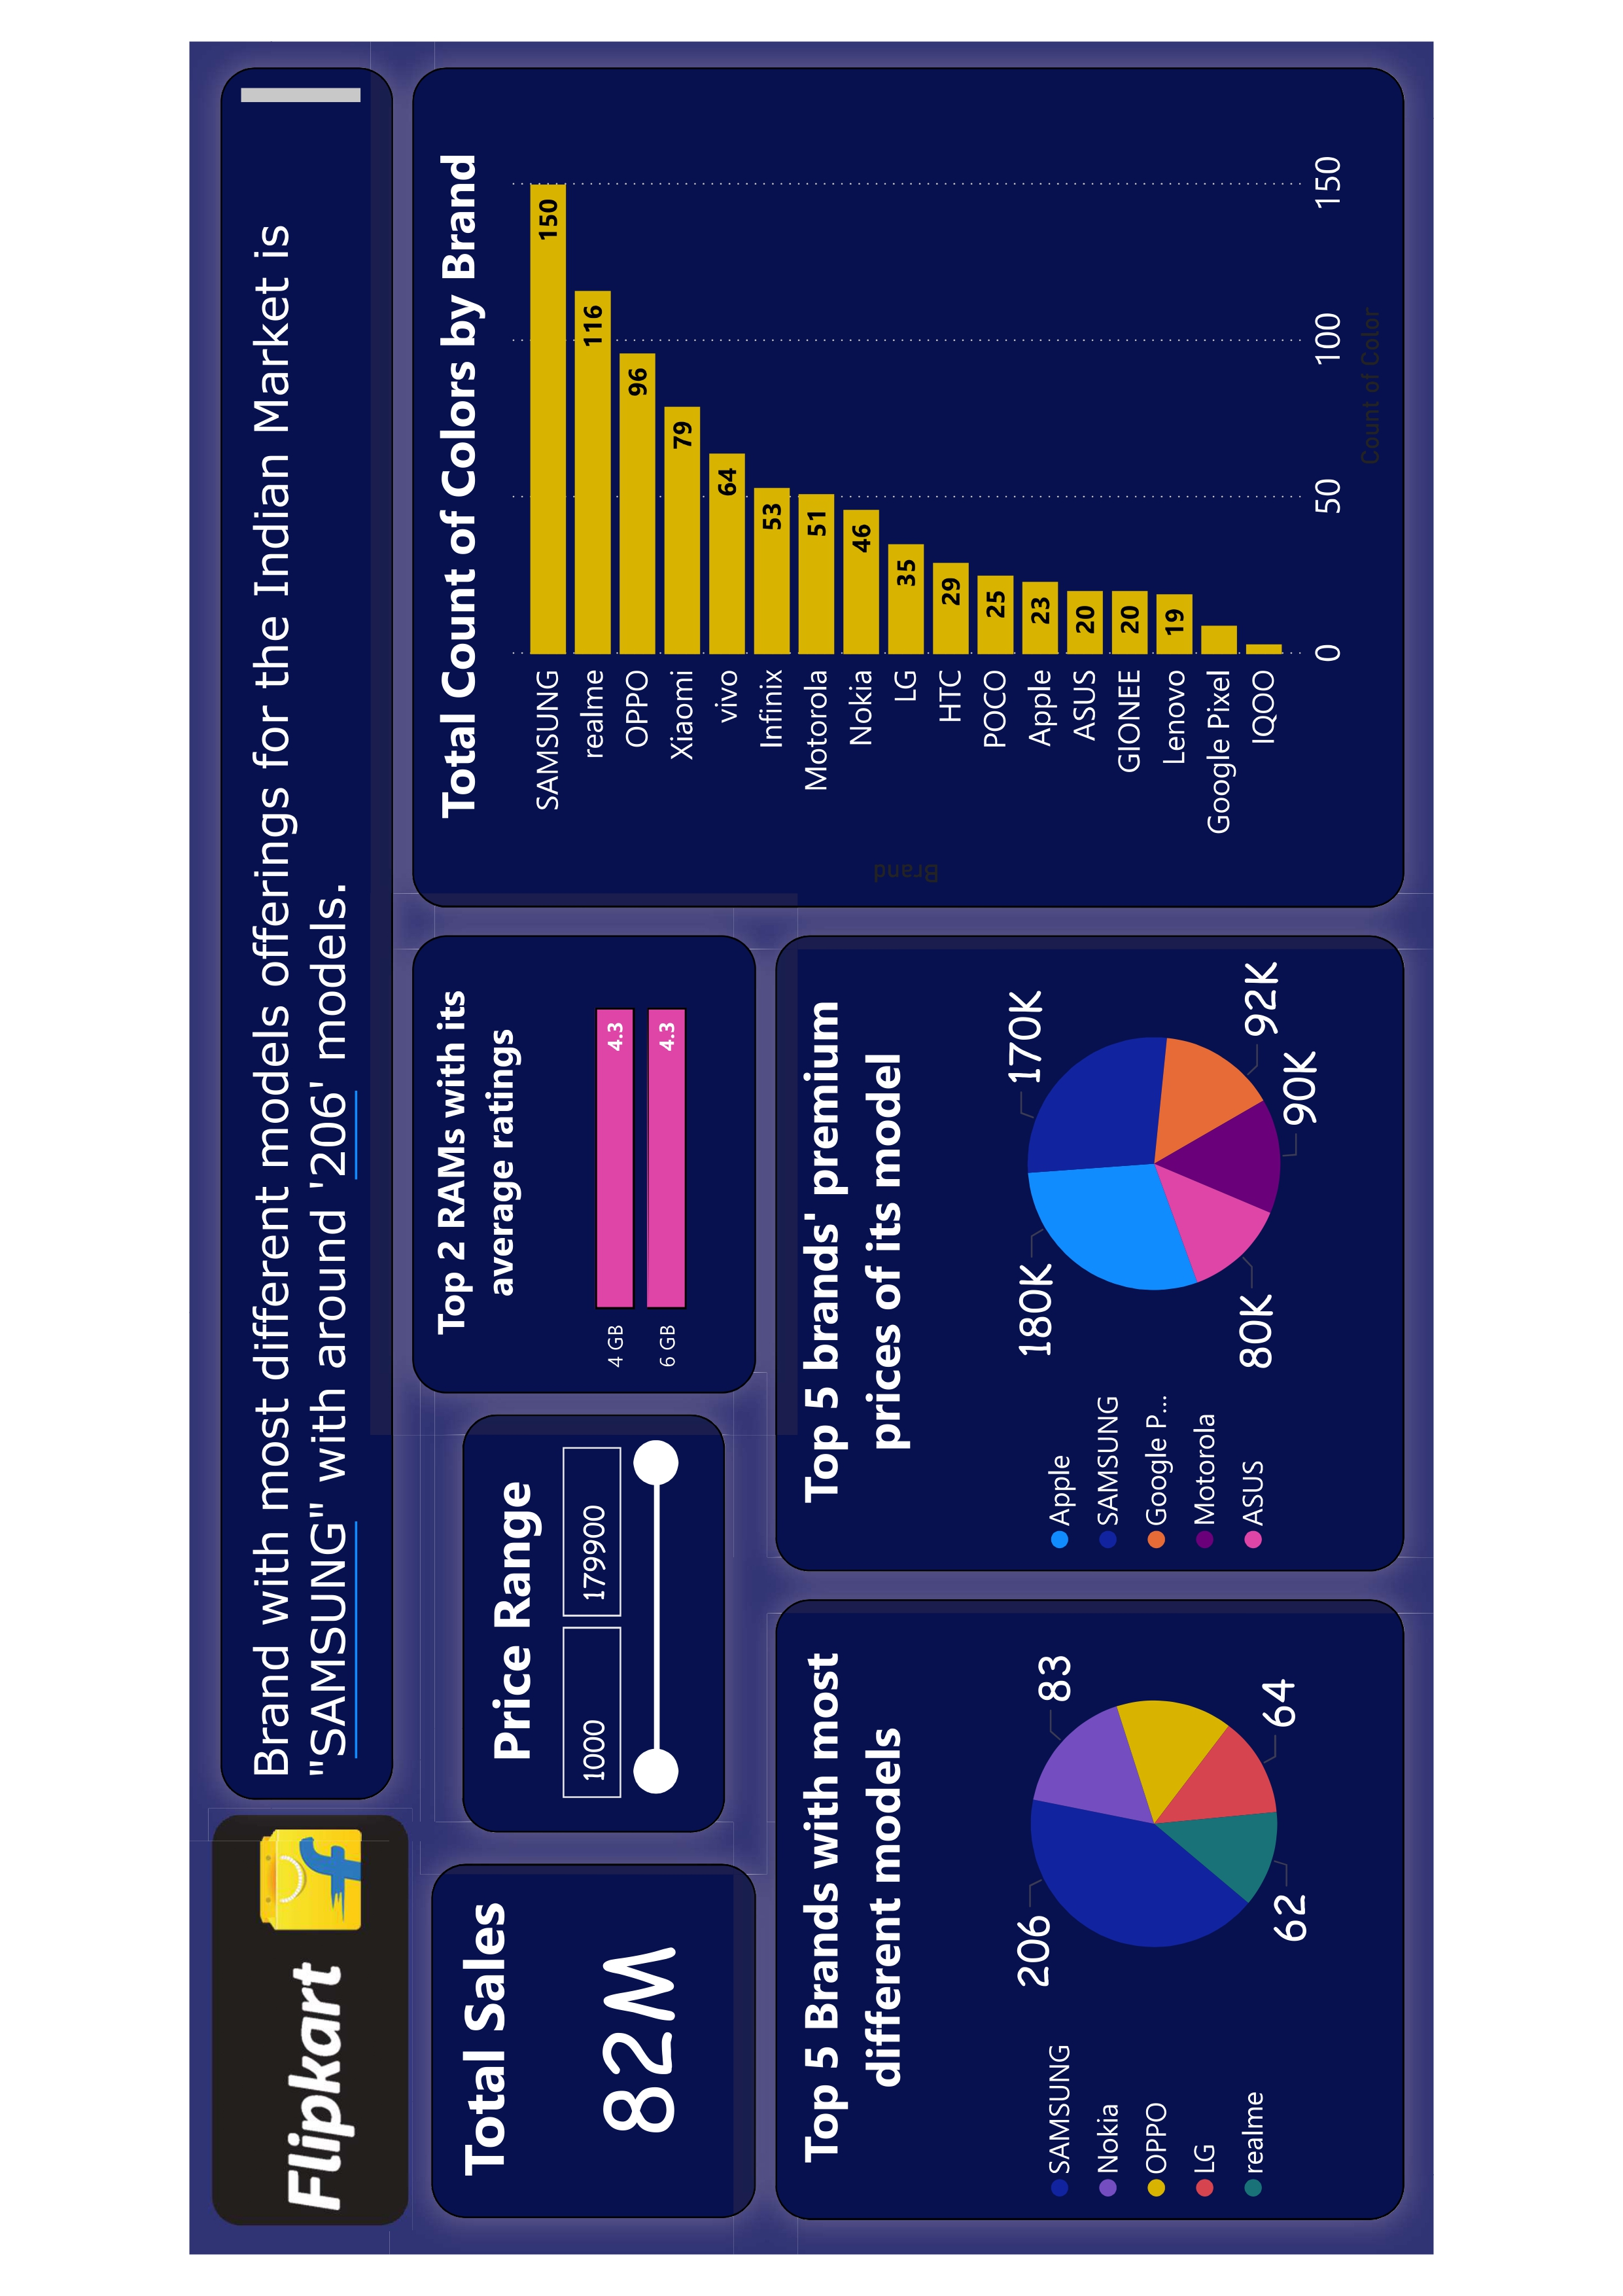

The page's visual inventory and layout, read from the dashboard file:
{"tool":"powerbi","page":{"name":"Page 1","canvas":[1280,720],"ordinal":0},"visuals":[{"type":"card","title":"Total Sales","fields":{"Values":["Sum(Flipkart_Mobiles.Selling Price)"]},"box":[20.4,140.2,240.9,91.1],"z":0},{"type":"image","box":[20.4,0,240.9,140.2],"z":2001},{"type":"slicer","title":"Price Range","fields":{"Values":["Flipkart_Mobiles.Selling Price"]},"box":[21.6,243.3,240.9,183.4],"z":2002},{"type":"textbox","box":[300.1,18.8,901.7,105.3],"z":2005},{"type":"pieChart","title":"Top 5 Brands with most different models","fields":{"Category":["Flipkart_Mobiles.Brand"],"Y":["Count(Flipkart_Mobiles.Model)"]},"box":[300.1,139.9,470.3,304.4],"z":2006},{"type":"pieChart","fields":{"Category":["Flipkart_Mobiles.Brand"],"Y":["Max(Flipkart_Mobiles.Selling Price)"]},"box":[784.9,139.9,471.8,305.9],"z":2007}]}

Visuals, with their boxes on the page's 1280x720 design canvas (x1, y1, x2, y2). These are canvas units, not pixel positions in the 1623x2296 screenshot, which may show the page scaled, cropped or inside an application window:
"Total Sales" card: [20,140,261,231]
image: [20,0,261,140]
"Price Range" slicer: [22,243,262,427]
textbox: [300,19,1202,124]
"Top 5 Brands with most different models" pieChart: [300,140,770,444]
pieChart - Flipkart_Mobiles.Brand x Max(Flipkart_Mobiles.Selling Price): [785,140,1257,446]
